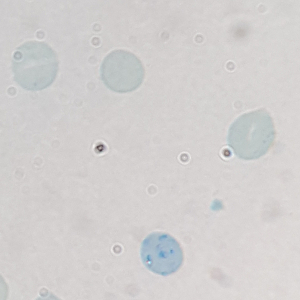aggregate reticulocyte: (138, 229, 185, 277)
erythrocyte: (99, 48, 146, 95)
punctate reticulocyte: (225, 105, 278, 162), (9, 39, 60, 92)
